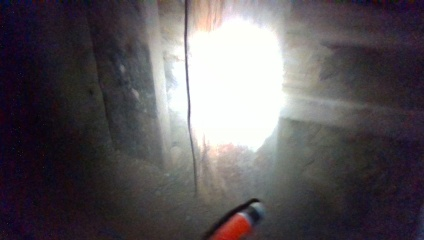drill: (199, 196, 267, 236)
